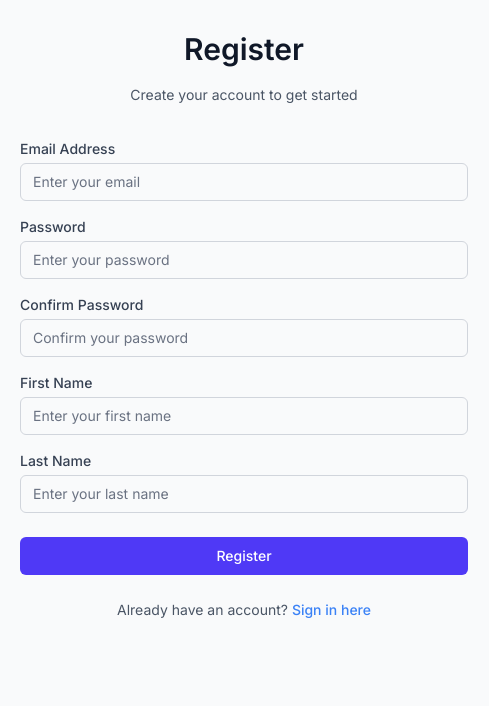
RegisterPage › Form Validation › should validate email format
Type "invalid-email" into the field labelled "Email Address" at coordinates (244, 182), box 20,163 -> 468,201
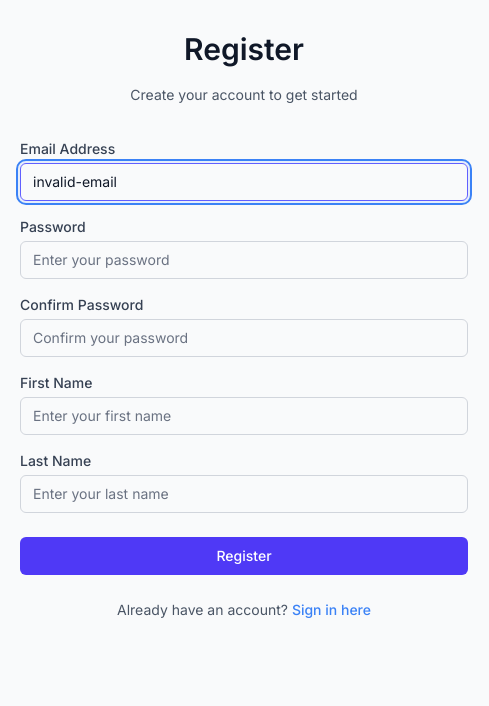
Click the button "Register" at coordinates (244, 556), box 20,537 -> 468,575
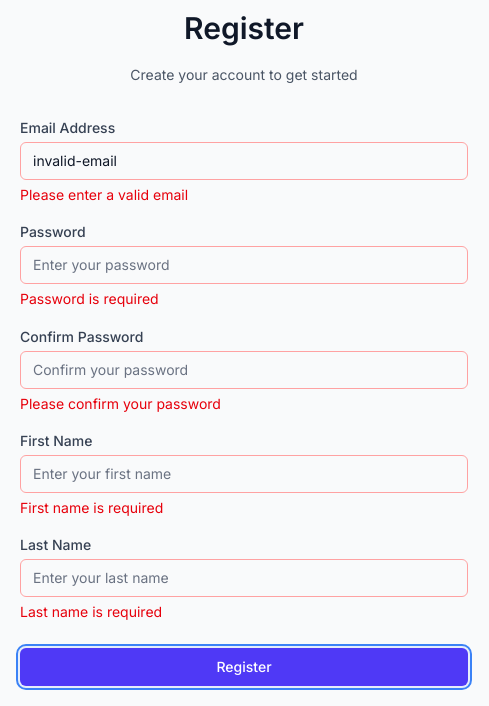
Check: the text "Please enter a valid email" is shown, box 20,186 -> 188,203
